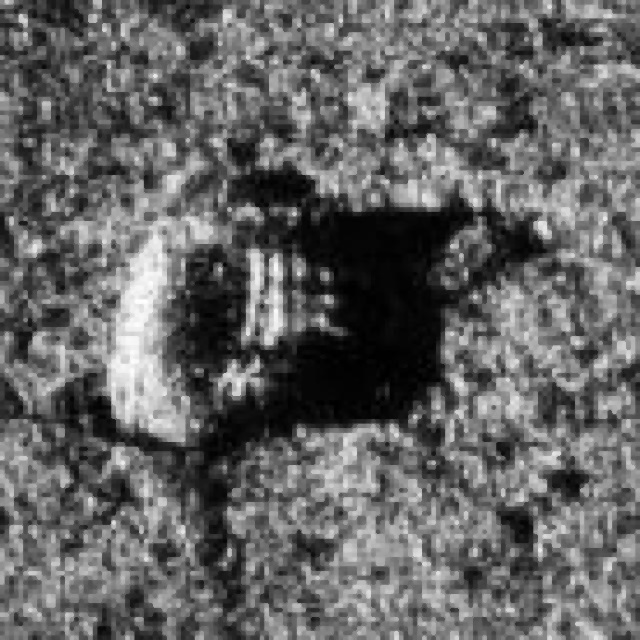Ship: (103, 181, 342, 458)
